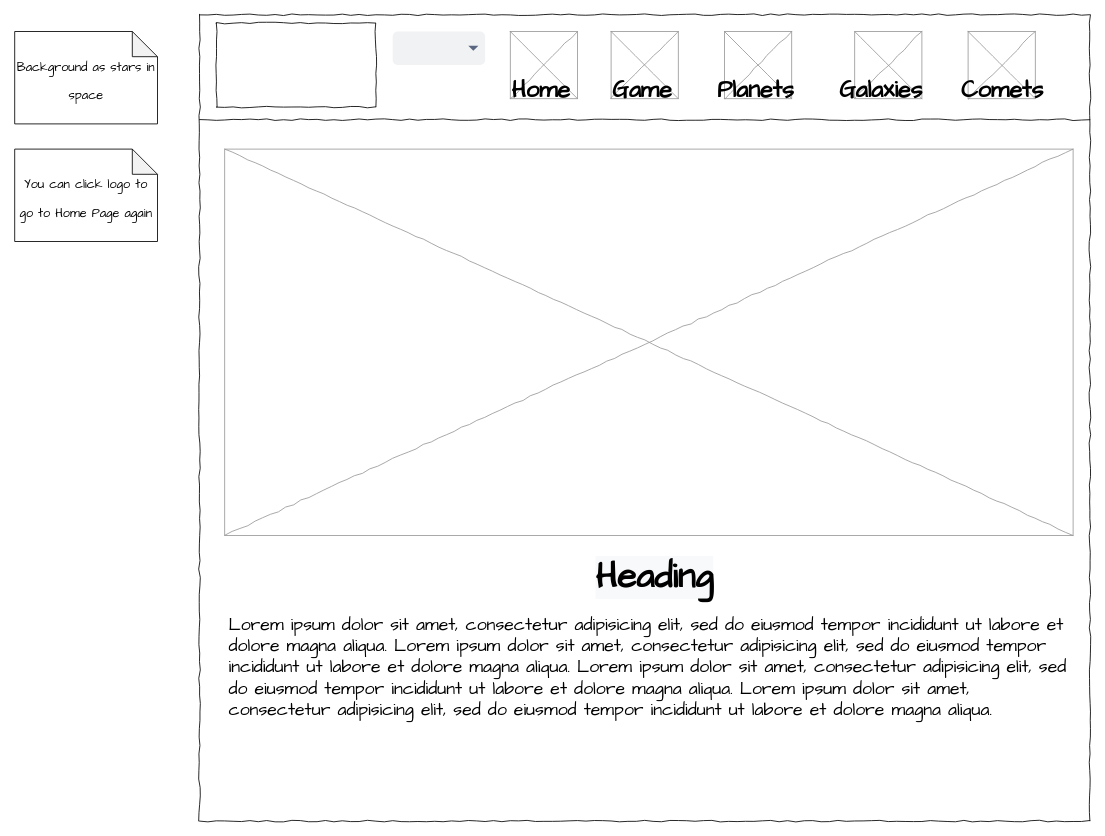
Some shapes in this 1105 by 836 pixel diagram are drawn without their labels. The shapes that lost their labels are listed below. From the top down, each one's centre as x and y in pixels, then its label:
the point at 295,64: LOGO
the point at 438,48: Language
